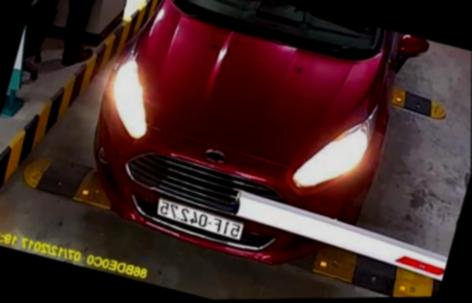License_Plate: (142, 200, 250, 245)
